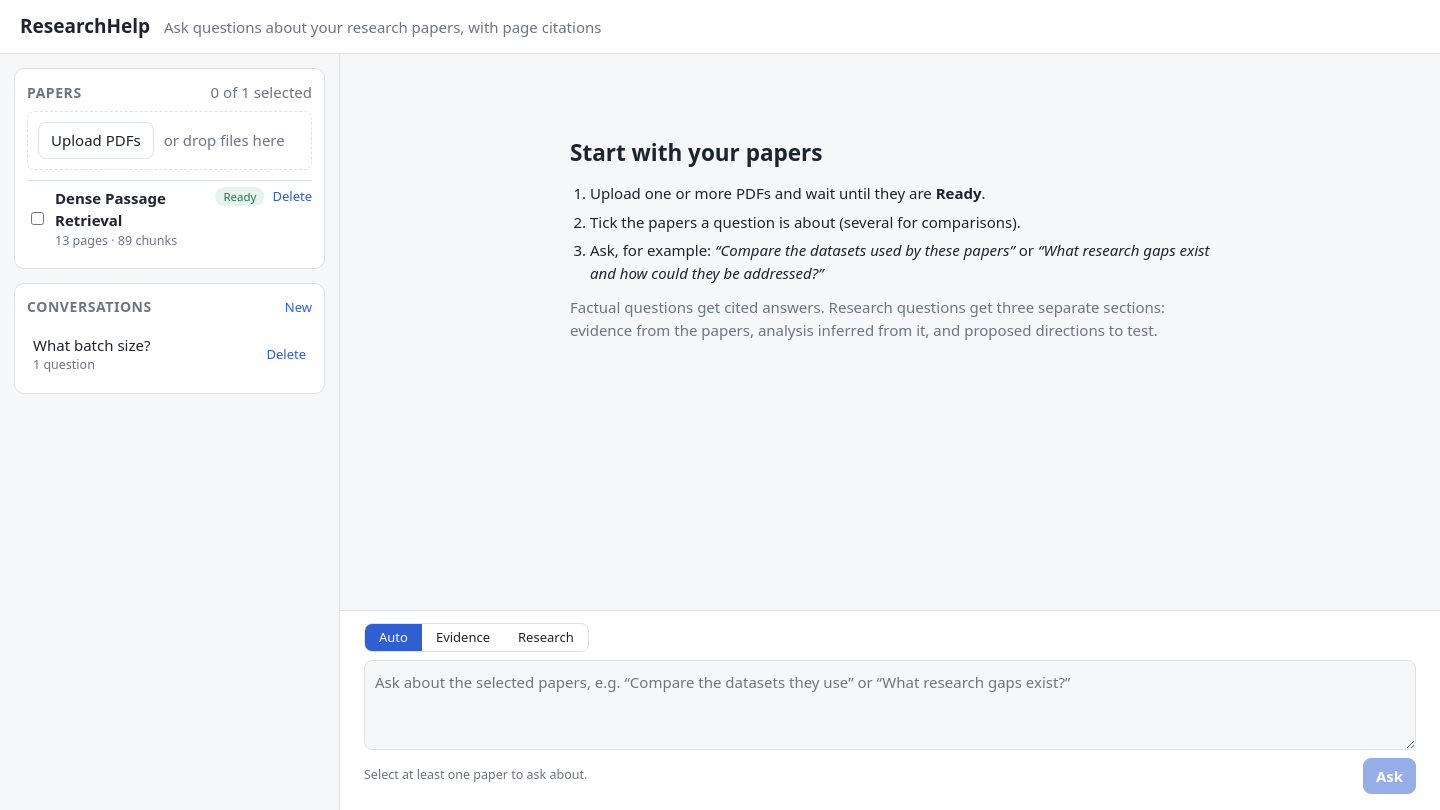
Test: App › reopens a saved conversation, re-rendering its answers and re-selecting its papers
Step 1. Click the button "What batch size? 1 question" → (146, 354), box [33,330,258,379]
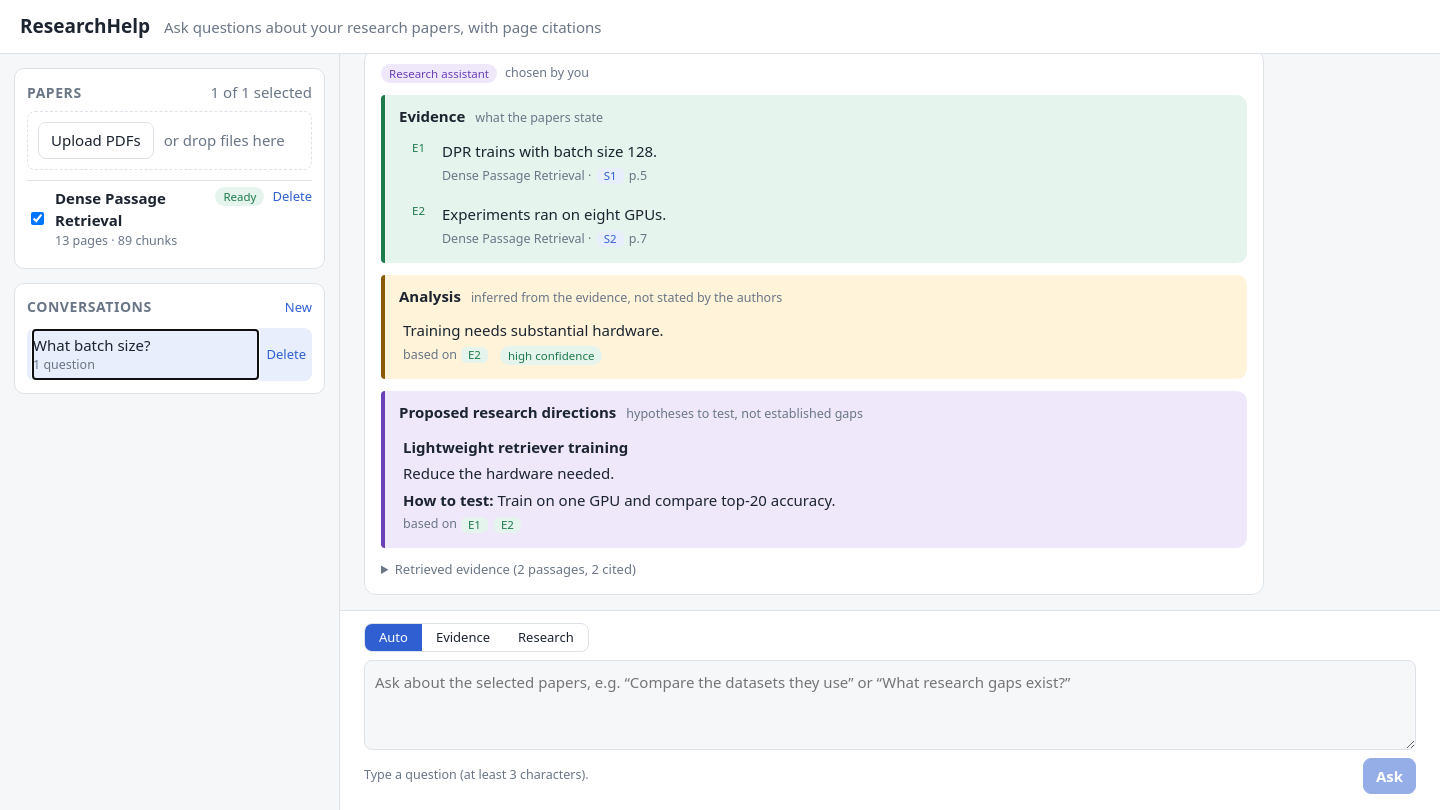
Expected: the element named "Research answer" is shown, [364,54,1264,594]
Expected: the checkbox named "Select Dense" is checked, [31,190,44,247]
Expected: the text "1 of 1 selected" is shown, [211,80,312,103]
